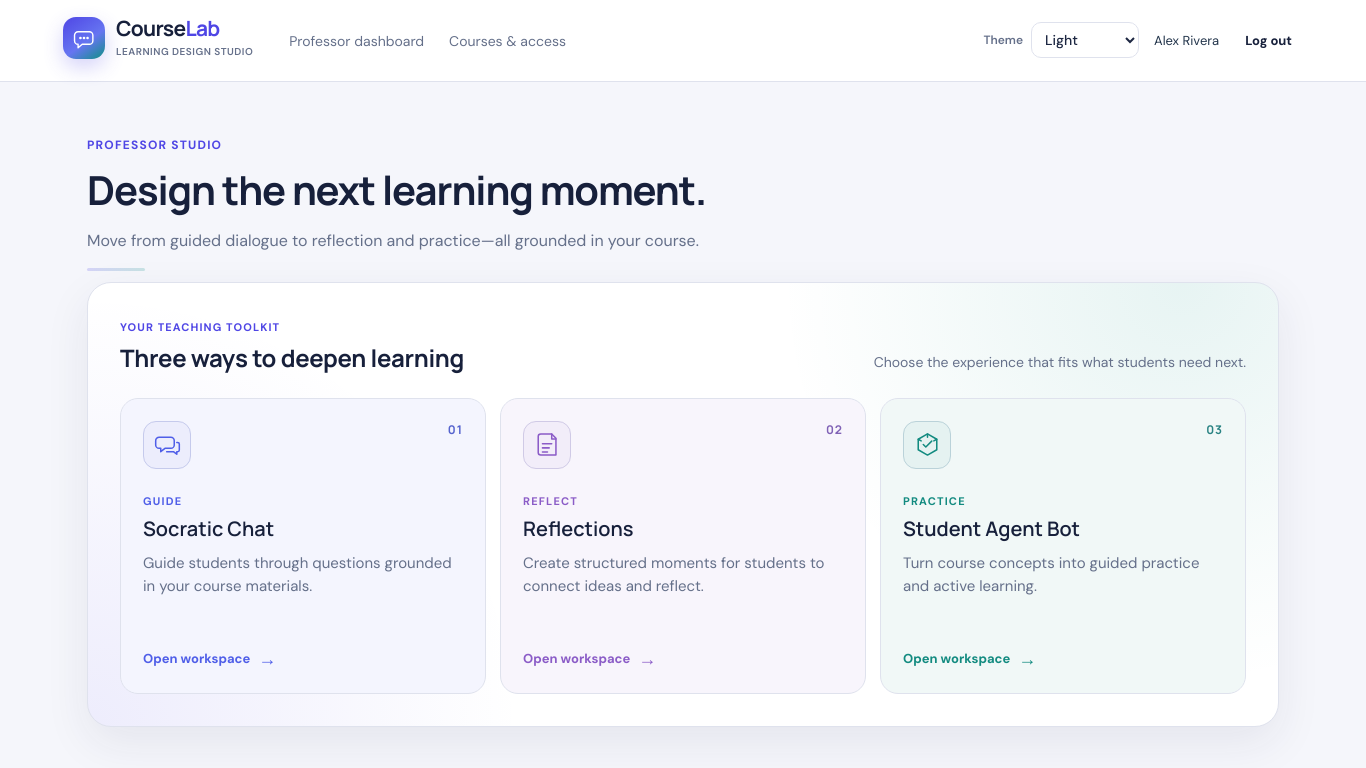
Scenario: professor selects each explicit tool dashboard
Expected: the heading "Design the next learning moment." is shown, [87,167,706,214]
Click the link "Reflect Reflections".
click(547, 445)  # box [500,398,866,694]
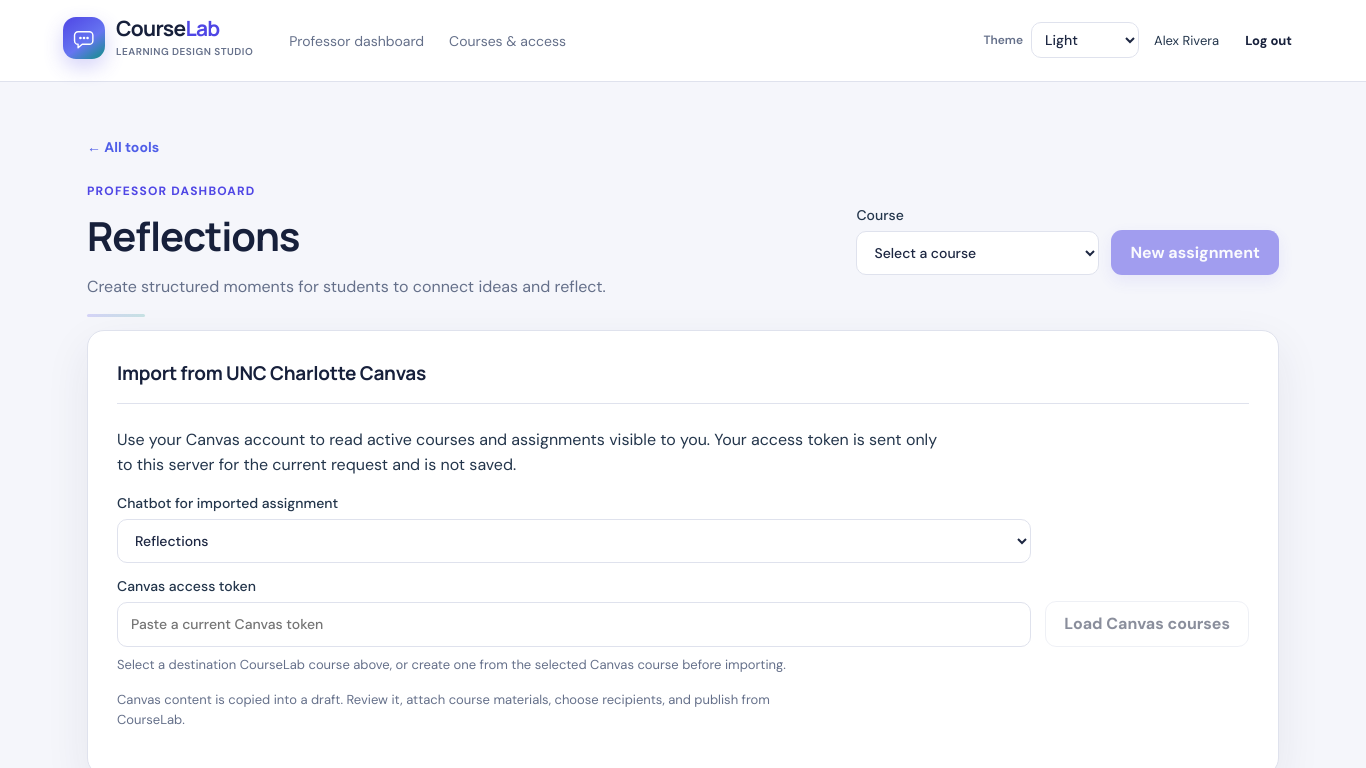
Expected: the heading "Reflections" is shown, [87,208,299,263]
Expected: the button "New assignment" is disabled, [1112,230,1279,275]
Select "SE101 — Software Engineering" in the dropdown labelled "Course" at point(978, 253), box [856,231,1100,275]
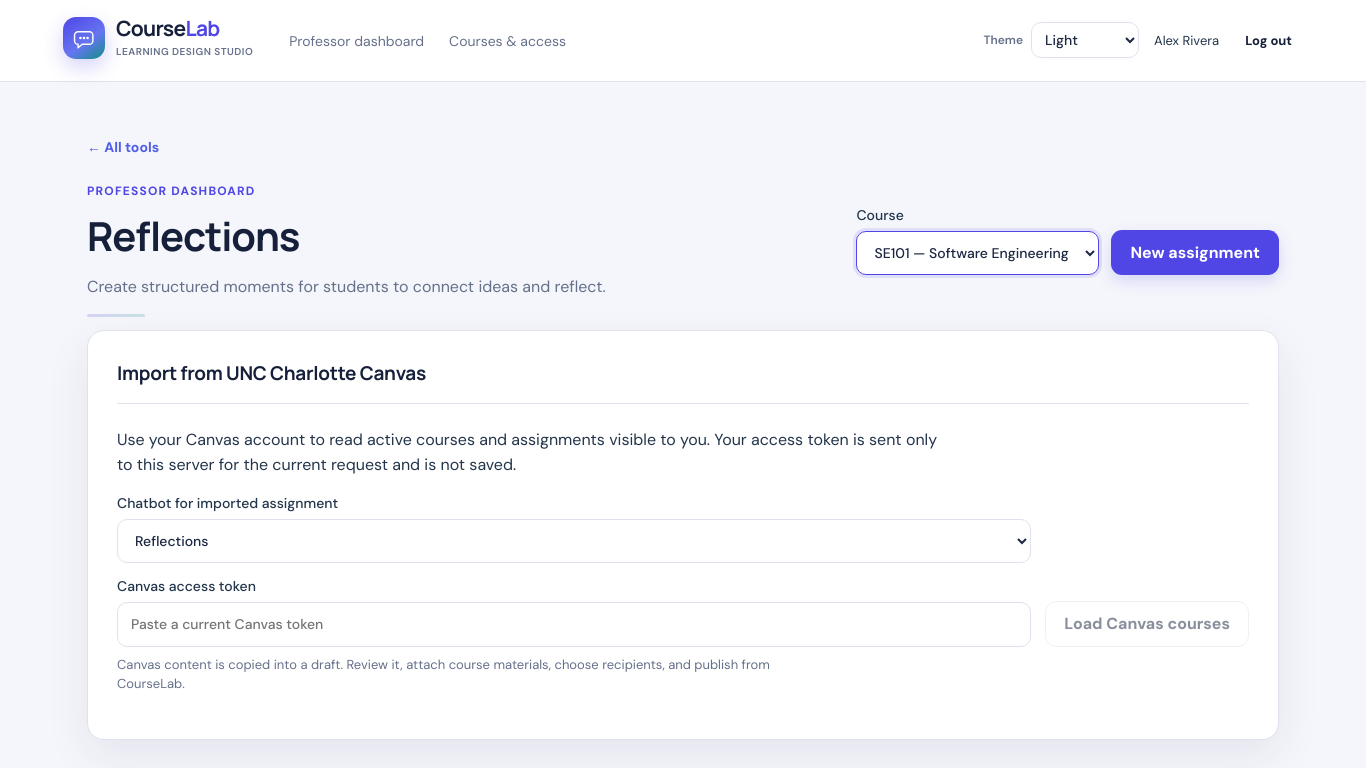
Click the button "New assignment".
click(1195, 252)  # box [1112,230,1279,275]
(page scrolled)
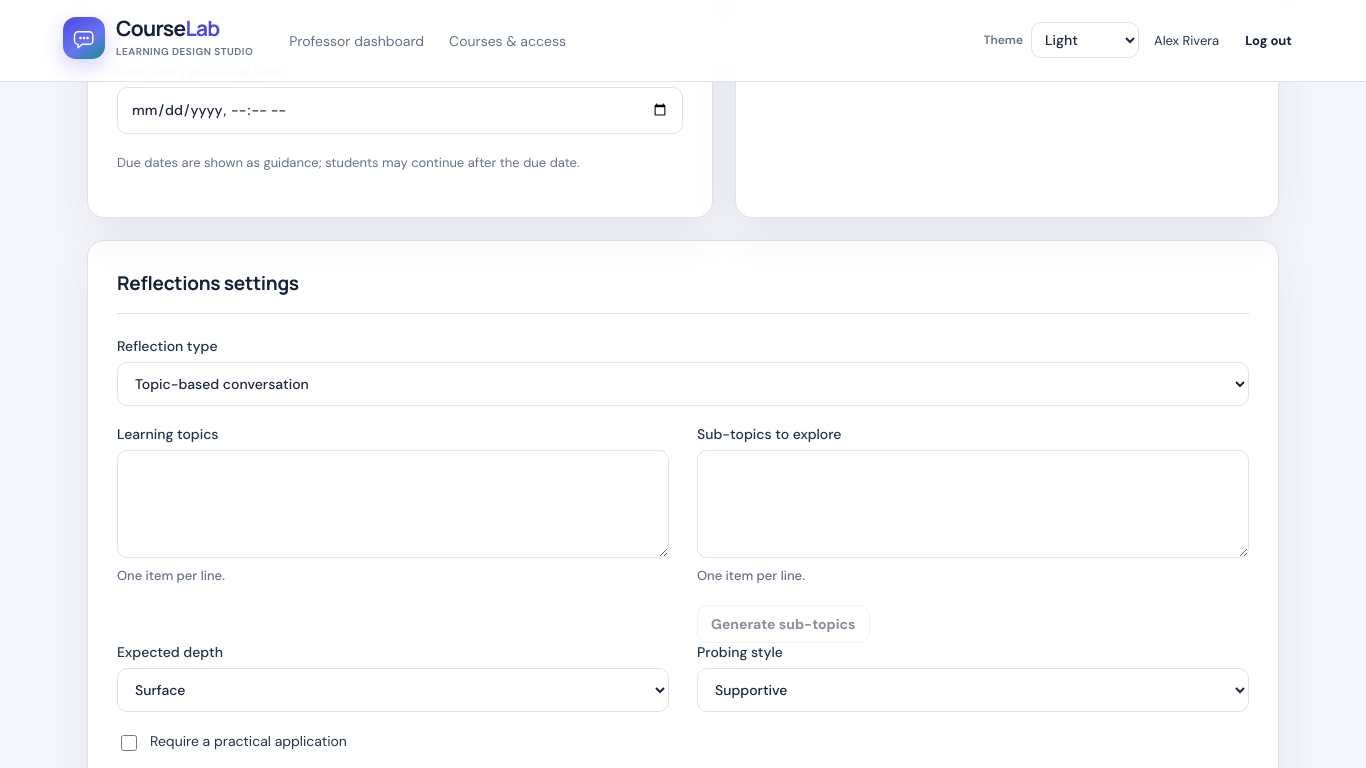
Expected: the heading "Reflections settings" is shown, [117,270,1249,314]
Expected: the dropdown labelled "Reflection type" shows "Topic-based conversation", [117,362,1249,406]
